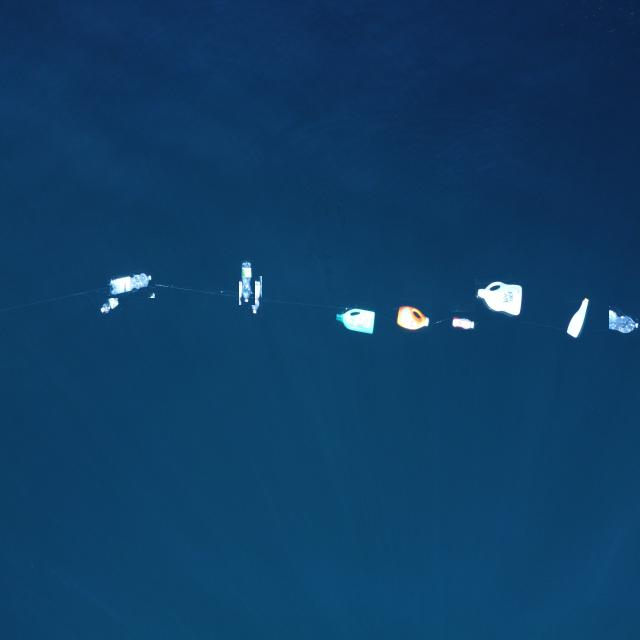bottles: (475, 278, 525, 320), (333, 306, 378, 338), (107, 268, 155, 298), (564, 293, 591, 340), (393, 301, 432, 333), (609, 305, 640, 337), (239, 259, 255, 305), (97, 290, 125, 316), (449, 312, 478, 329), (250, 276, 262, 317)
